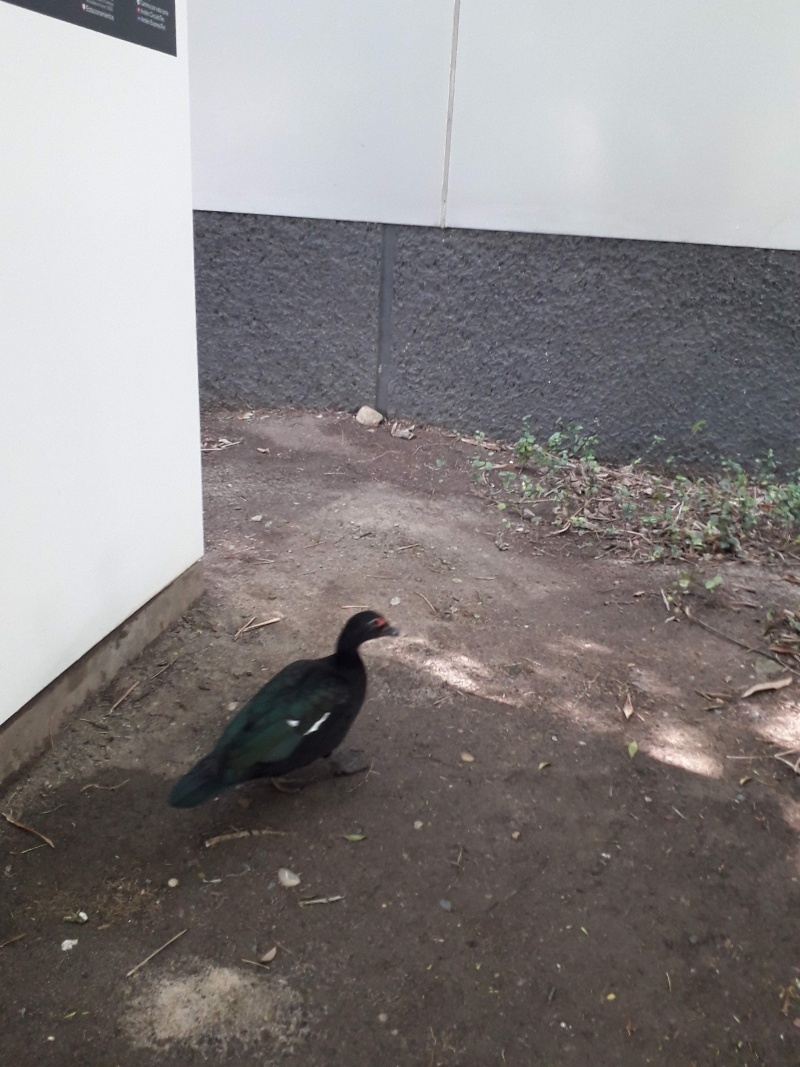pato: (174, 604, 399, 814)
